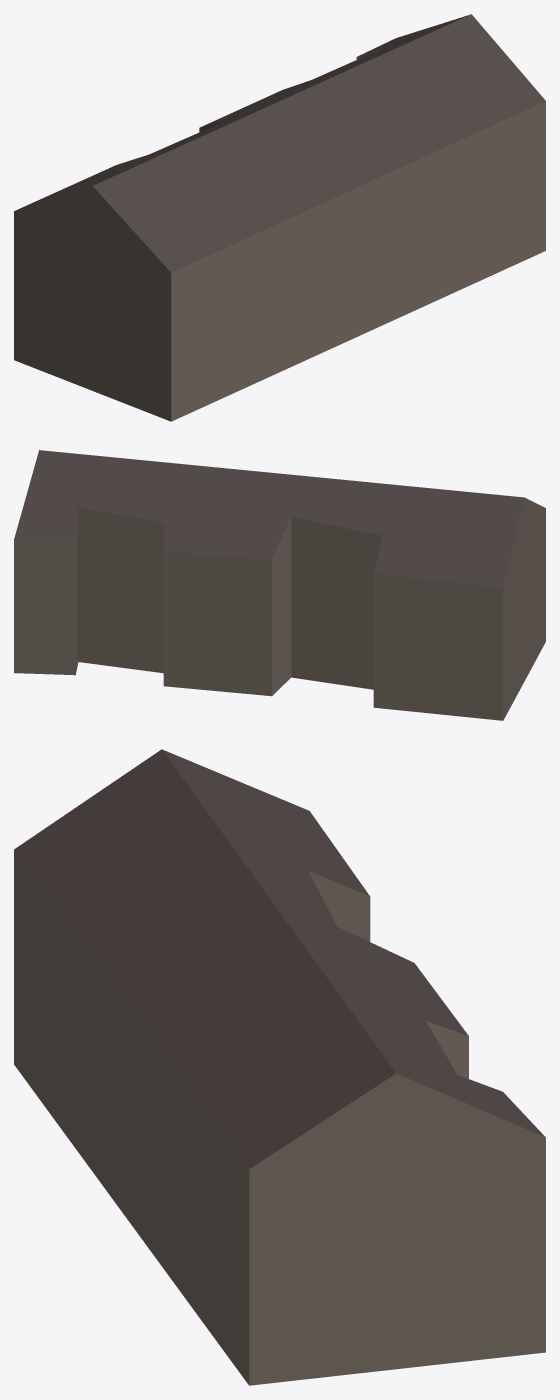
The picture shows the model from 3 angles, top to bottom: view 1: azimuth 30°, elevation 25°; view 2: azimuth 150°, elevation 25°; view 3: azimuth 270°, elevation 25°; orthographic projection. The views are drawn at different scales.
Visible parts, largest first — view 1: HP-w1516161958; view 2: HP-w1516161958; view 3: HP-w1516161958.
Boxes of the visible parts, left/top/right/bottom form: HP-w1516161958: left=14, top=14, right=545, bottom=421; HP-w1516161958: left=14, top=450, right=545, bottom=720; HP-w1516161958: left=14, top=749, right=545, bottom=1385.
Bounding box in the file's own units: 32.32 × 12.39 × 20.19.
